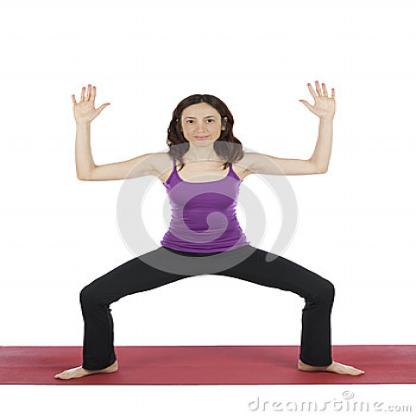godness: (49, 77, 370, 384)
